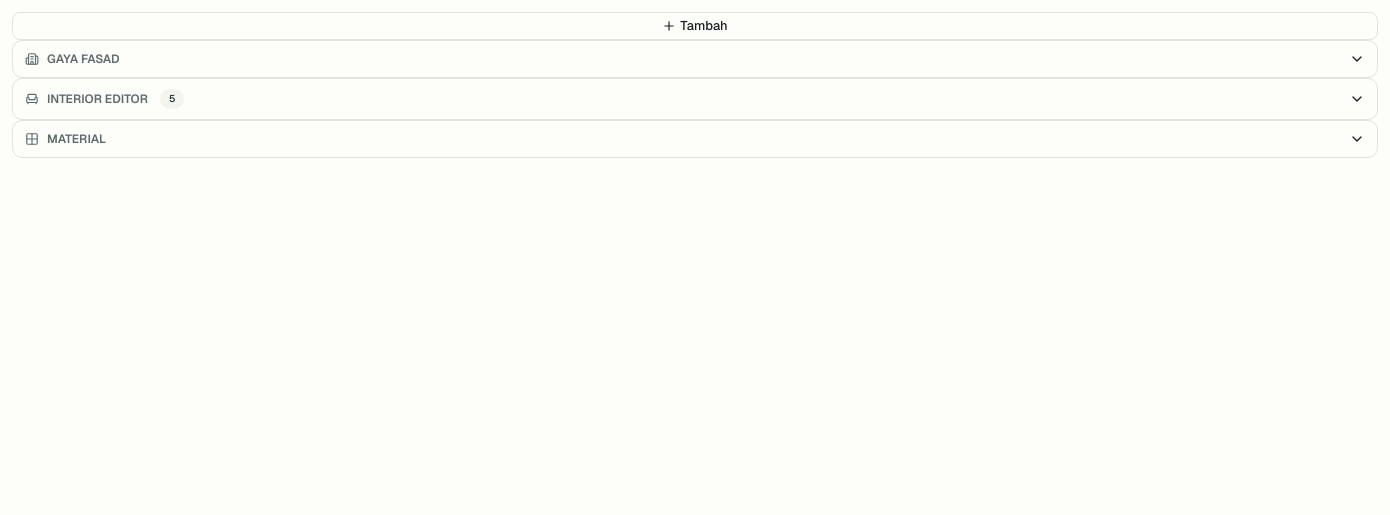
PreviewControlsBody — Fase 6 (+Tambah menu, section kolaps) › tab stub 'Asisten Interior' tidak ada lagi — baris ✦ Tanya AI ada di dalam section Interior
The image size is (1390, 515).
Section Interior kolaps default — buka dulu.
Click the button "Interior Editor 5".
click(97, 99)  # box [13, 79, 1377, 119]
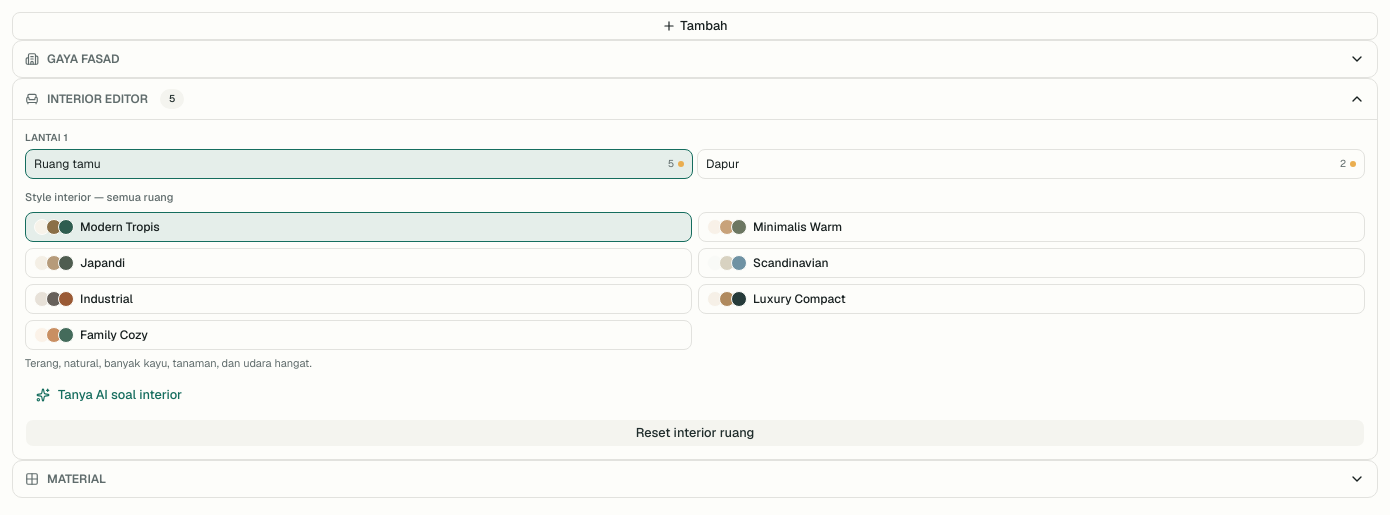
Expected: the button "Tanya AI soal interior" is shown, [25, 381, 1365, 409]
